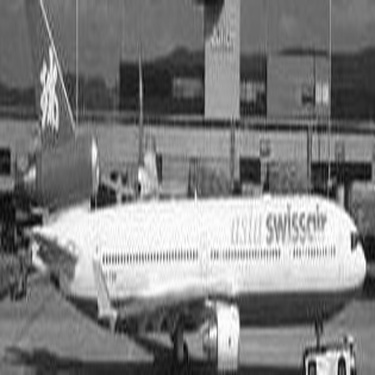airplane: (1, 28, 372, 372)
